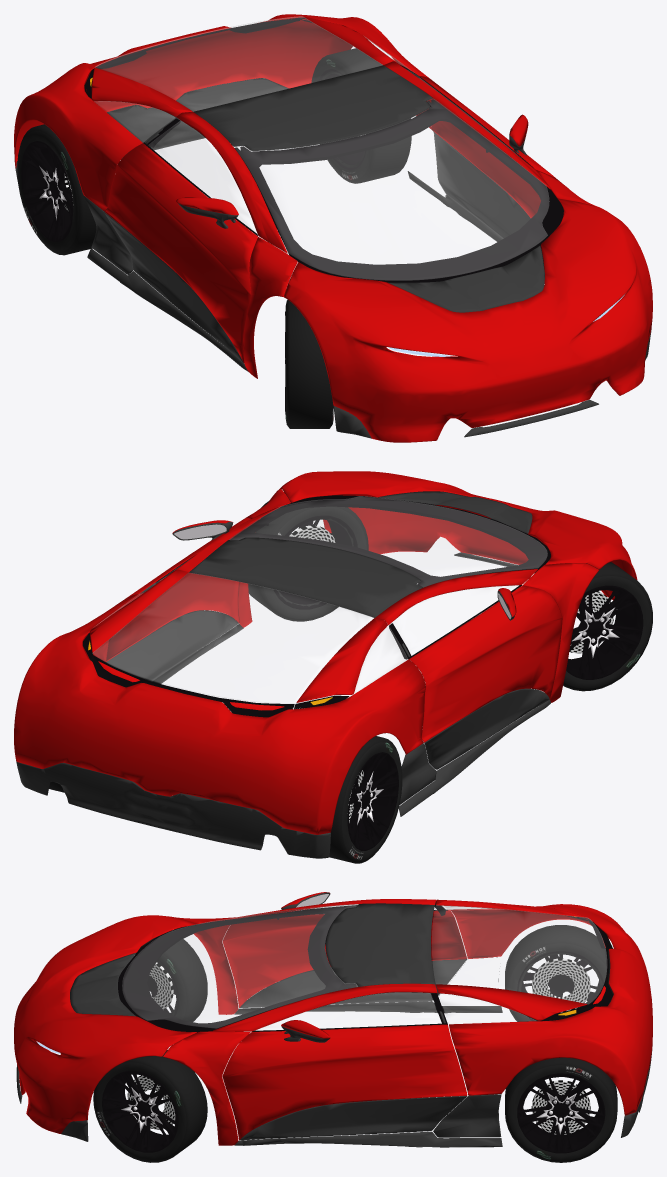
The model's file is CarConcept-m.glb.
3 renders of one model, top to bottom at view 1: azimuth 30°, elevation 25°; view 2: azimuth 150°, elevation 25°; view 3: azimuth 270°, elevation 25°, orthographic. The views are drawn at different scales.
Visible parts, largest first — view 1: BodyHood, BodyWindshield, BodyRearPanelsColor1, BodyRearwindow, BodyDoorRColor1, BodyWindshieldGasket, BodyRoofPanel, BodyPanelsColor2, BodyPillars, BodyHoodTopgrill, WheelFrontR, BodyDoorLColor2 (+9 smaller); view 2: BodyRearPanelsColor1, BodyRearwindow, BodyWindshield, BodyPanelsColor2, BodyHood, BodyDoorRColor1, BodyRoofPanel, BodyPillars, BodyWindshieldGasket, WheelFrontRRim, BodyDoorLColor1, BodyDoorLColor2 (+10 smaller); view 3: BodyRearPanelsColor1, BodyWindshield, BodyDoorLColor1, BodyHood, BodyRearwindow, BodyPillars, BodyRoofPanel, BodyPanelsColor2, BodyDoorRColor1, BodyWindshieldGasket, BodyDoorLColor2, WheelFrontL (+17 smaller).
Part boxes in pixels (x1,y1,x2,y2): BodyHood: (284, 198, 652, 442); BodyWindshield: (234, 98, 549, 280); BodyRearPanelsColor1: (14, 14, 435, 211); BodyRearwindow: (95, 16, 382, 111); BodyDoorRColor1: (104, 143, 257, 363); BodyWindshieldGasket: (234, 99, 563, 282); BodyRoofPanel: (194, 65, 432, 150); BodyPanelsColor2: (15, 78, 651, 438); BodyPillars: (176, 61, 599, 378); BodyHoodTopgrill: (388, 245, 544, 312); WheelFrontR: (285, 299, 333, 428); BodyDoorLColor2: (434, 132, 544, 271); BodyRearPanelsColor1: (14, 569, 425, 834); BodyRearwindow: (92, 573, 373, 703); BodyWindshield: (229, 496, 547, 587); BodyPanelsColor2: (15, 552, 550, 858); BodyHood: (277, 471, 637, 600); BodyDoorRColor1: (409, 585, 562, 742); BodyRoofPanel: (189, 537, 422, 617); BodyPillars: (175, 489, 598, 702); BodyWindshieldGasket: (230, 495, 550, 587); WheelFrontRRim: (566, 585, 643, 679); BodyDoorLColor1: (106, 517, 250, 661); BodyDoorLColor2: (106, 610, 238, 681); BodyRearPanelsColor1: (436, 899, 652, 1115); BodyWindshield: (122, 904, 357, 1028); BodyDoorLColor1: (222, 1024, 467, 1140); BodyHood: (14, 915, 196, 1133); BodyRearwindow: (432, 905, 606, 1003); BodyPillars: (163, 899, 437, 1145); BodyRoofPanel: (326, 903, 434, 986); BodyPanelsColor2: (16, 957, 652, 1147); BodyDoorRColor1: (222, 909, 467, 1007); BodyWindshieldGasket: (118, 905, 357, 1032); BodyDoorLColor2: (240, 1096, 467, 1140); WheelFrontL: (93, 1050, 207, 1162).
Size of the model in its own units: 2.54 by 1.15 by 4.36.
Materials: 13 (4 with a texture image).
